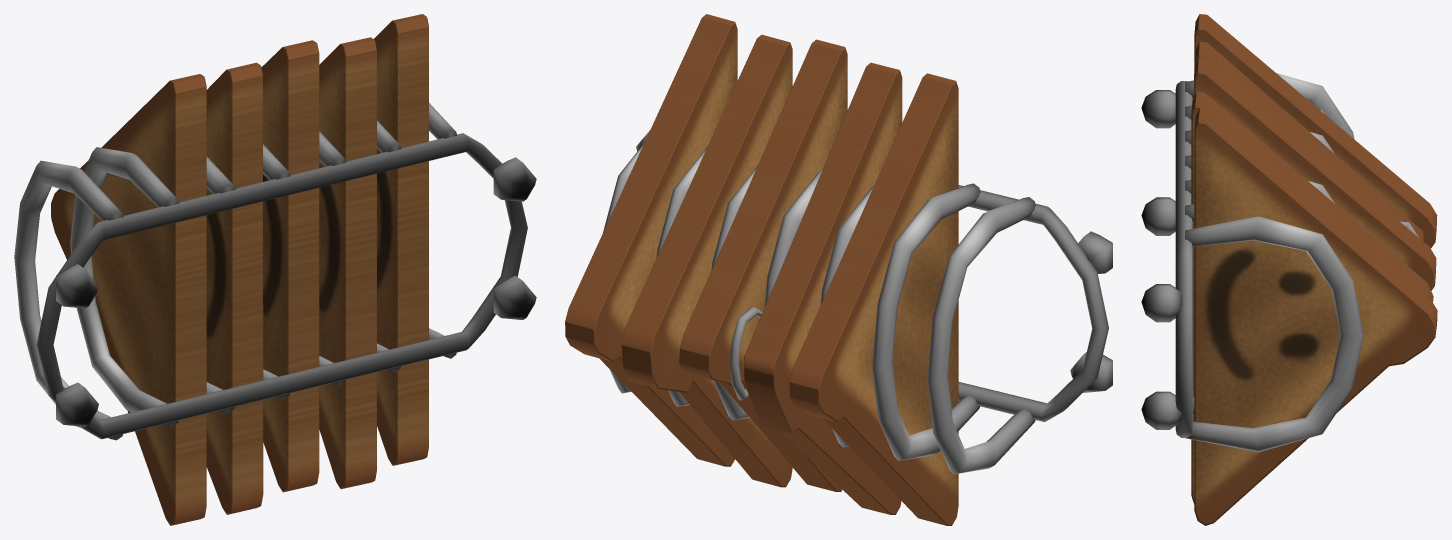
Rendered from toast_rack_with_toast.fbx.
3 renders of one model, left to right at view 1: azimuth 30°, elevation 25°; view 2: azimuth 150°, elevation 25°; view 3: azimuth 270°, elevation 25°, orthographic. The views are drawn at different scales.
Visible parts, largest first — view 1: toast_rack_with_toast; view 2: toast_rack_with_toast; view 3: toast_rack_with_toast.
Part boxes in pixels (<box>): toast_rack_with_toast: <box>14,14,536,525</box>; toast_rack_with_toast: <box>565,14,1112,525</box>; toast_rack_with_toast: <box>1141,14,1437,525</box>.
Size of the model in its own units: 8.75 by 7.81 by 5.06.
